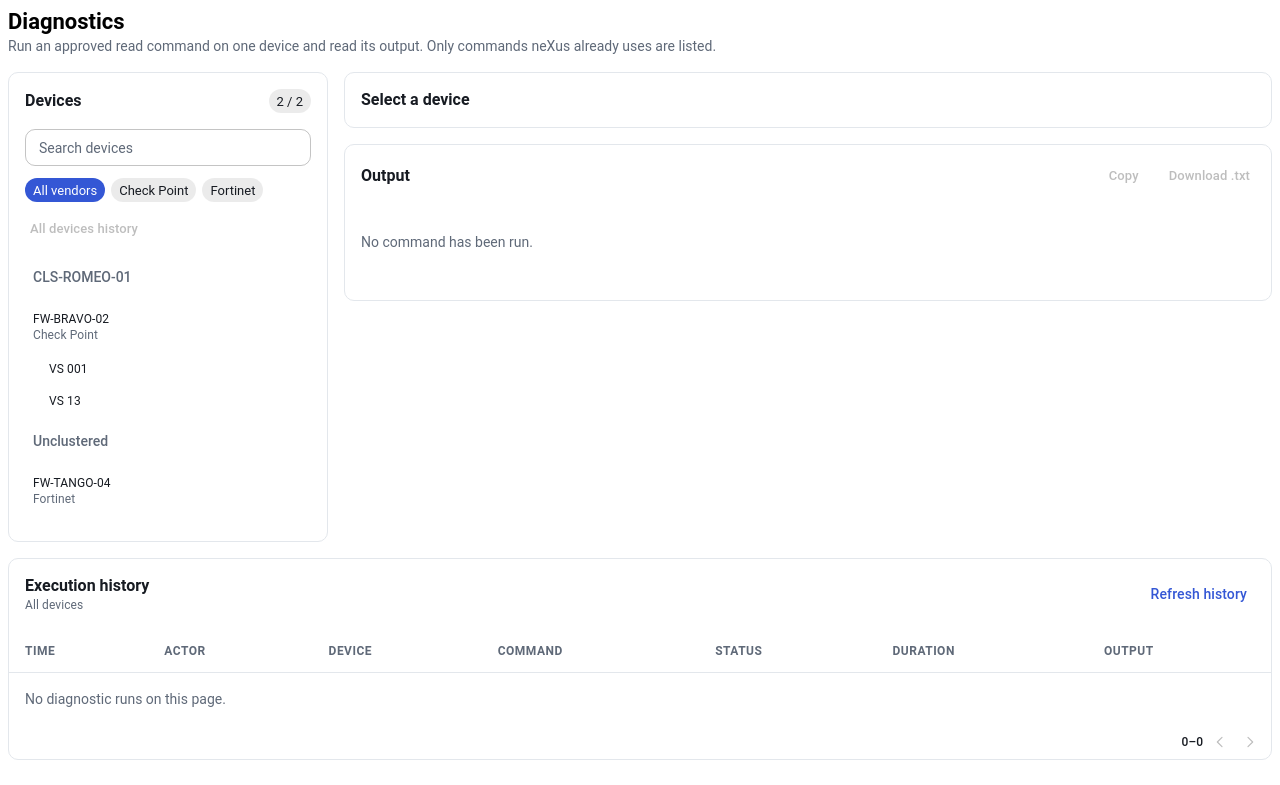
it: searches masked names and vendors and groups sorted devices with vendor filters
This screenshot has width=1280, height=785.
Check: the button "FW-TANGO-04 Fortinet" is shown, box [33,476,111,506]
Check: the list item "CLS-ROMEO-01" is shown, box [17,253,319,301]
Type "tango" into the field labelled "Search devices" at (168, 148), box [25,129,311,166]
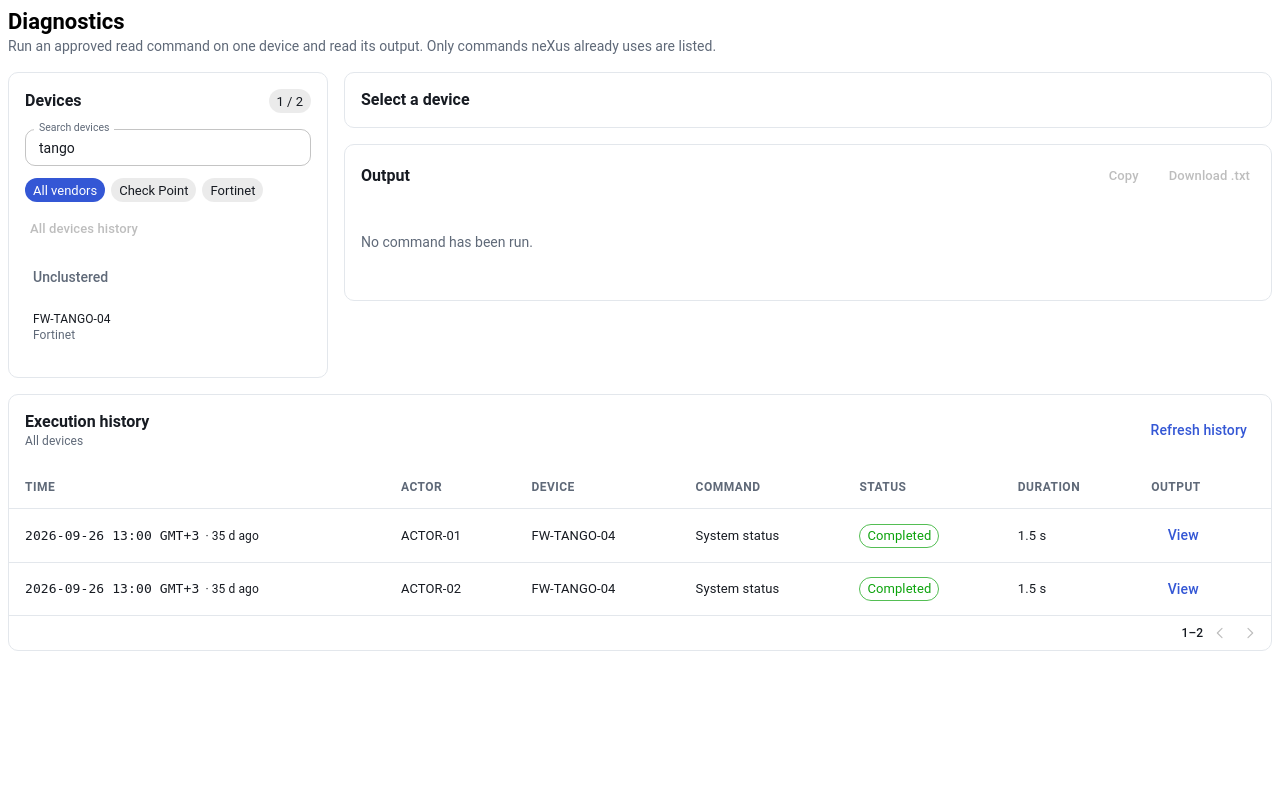
Check: the button "FW-BRAVO-02" is gone
Check: the text "1 / 2" is shown, box [277,94,303,108]
Replace the text in the field labelled "Search devices" with "CHECK_POINT" at (168, 148), box [25,129,311,166]
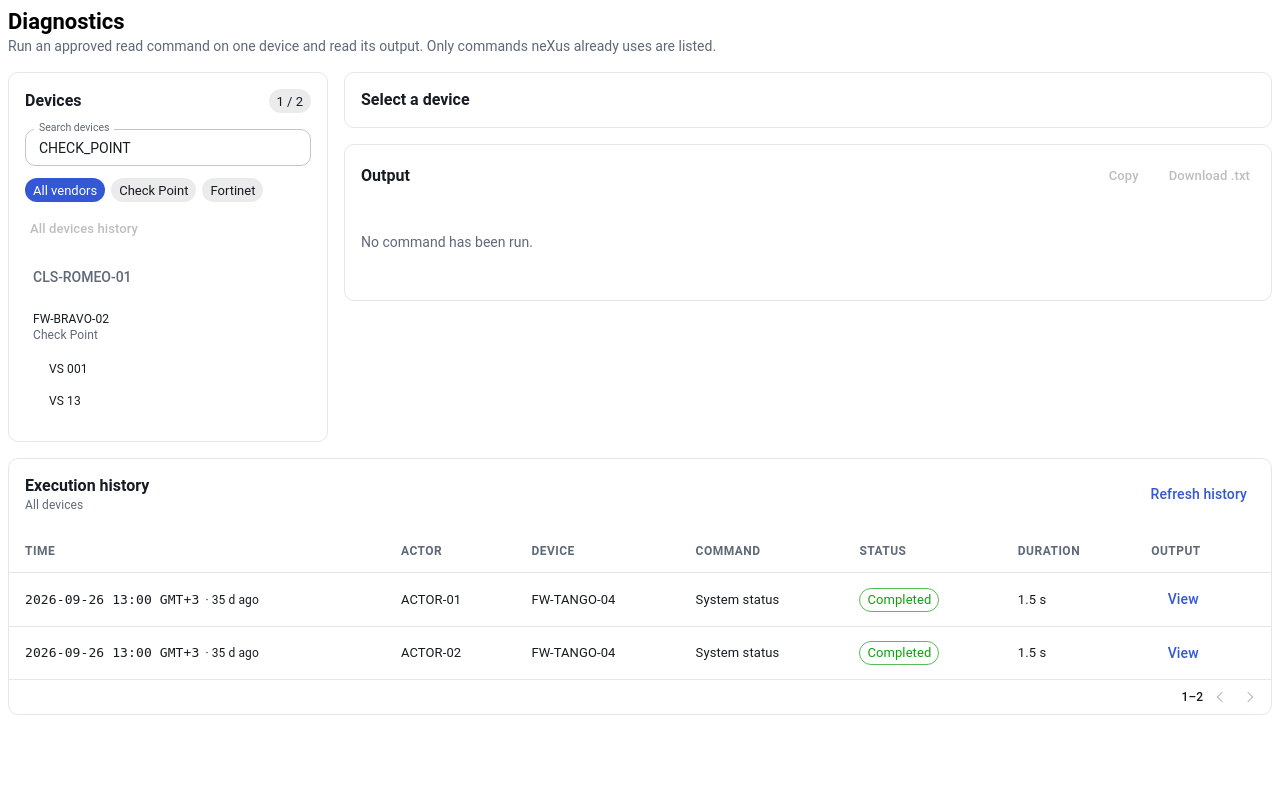
Check: the button "FW-BRAVO-02 Check Point" is shown, box [33,312,109,342]
Clear the field labelled "Search devices" at (168, 148), box [25,129,311,166]
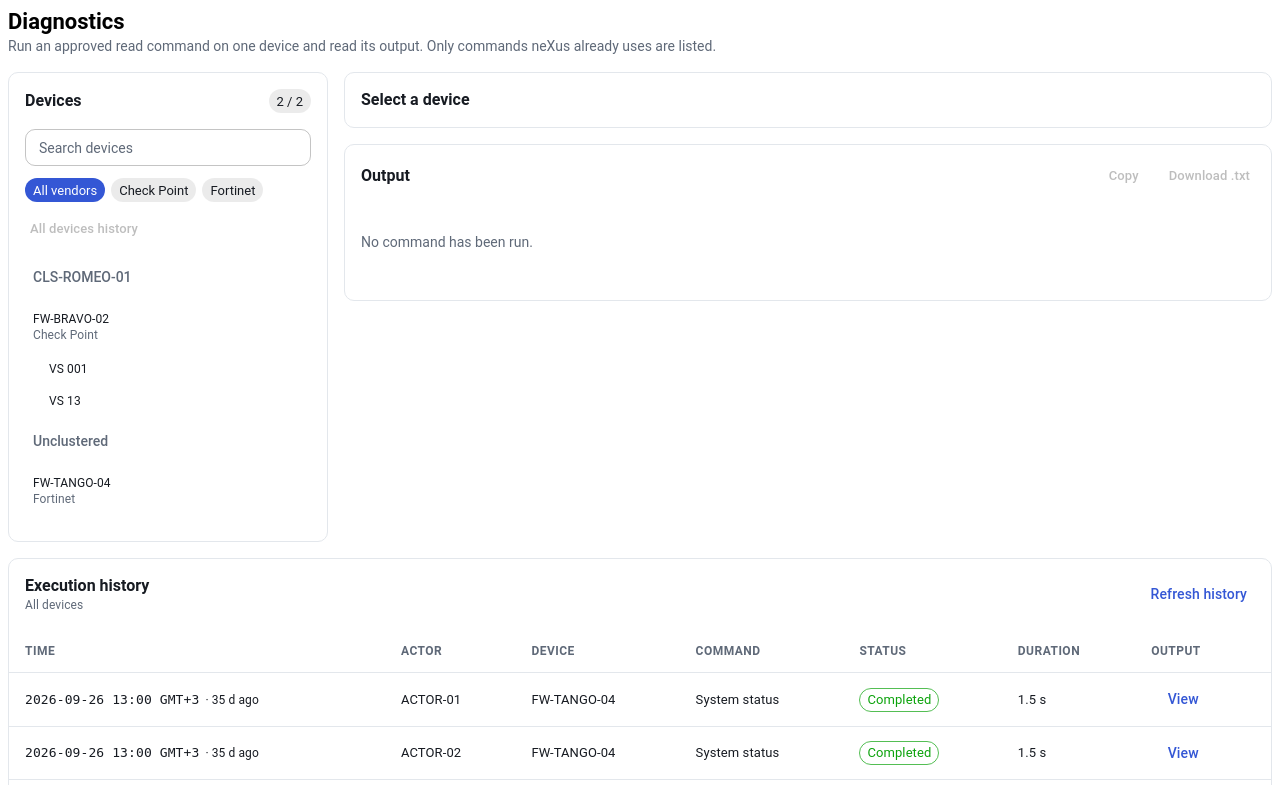
Click the button "Fortinet" at (233, 190), box [202,178,263,202]
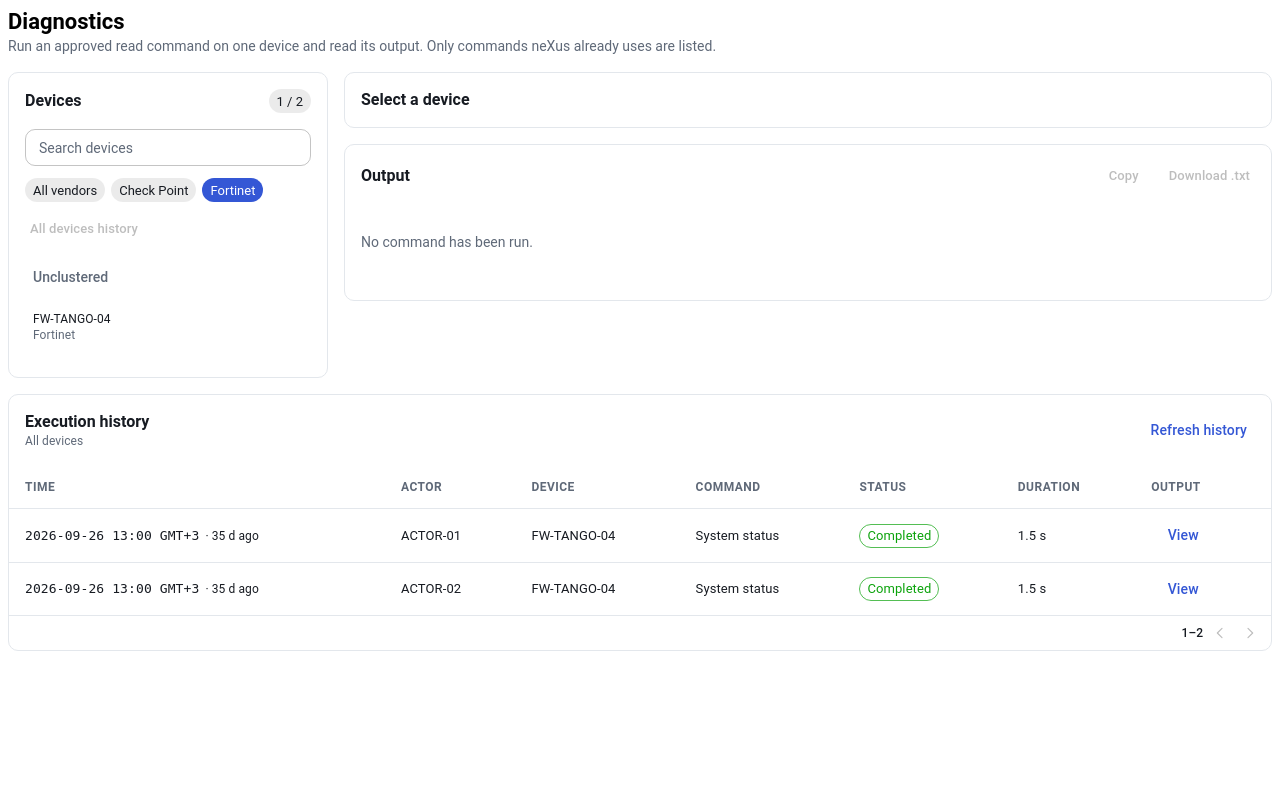
Check: the button "FW-BRAVO-02" is gone
